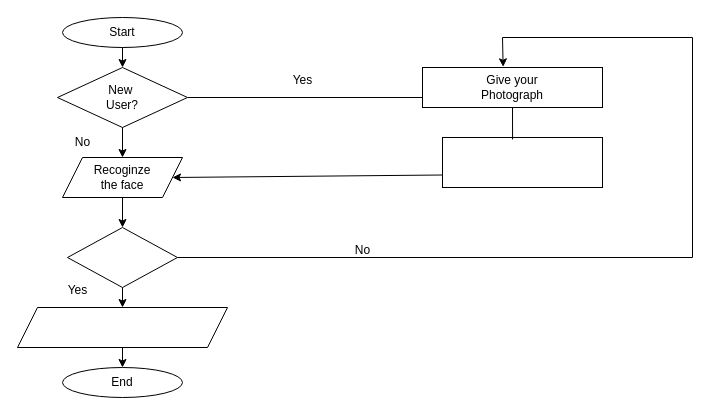
This 711x415 diagram has some shape labels left out. The shapes that lost their labels are listed below. From the top down, each one's centre as x and y in pixels, then its label:
the point at 522,162: Store the face data in folder on your name
the point at 122,257: Face Recognized
the point at 122,327: Stored in CSV fie with Registration Number & Date Time of Entry
